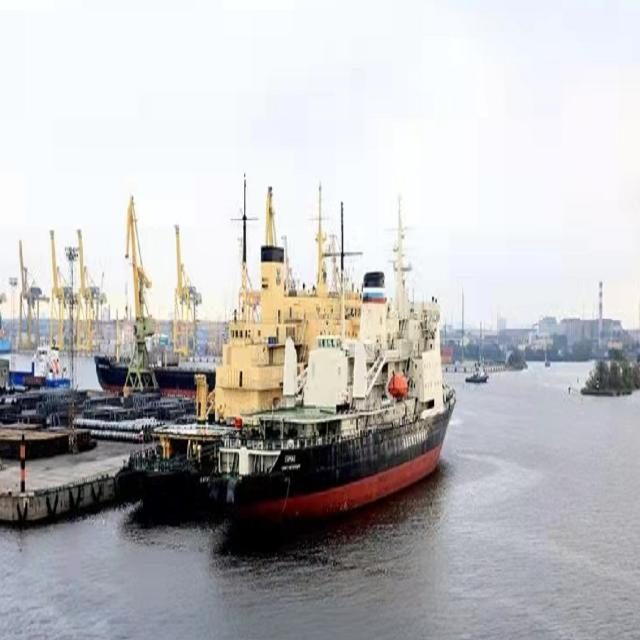cargoship: (244, 311, 472, 529)
